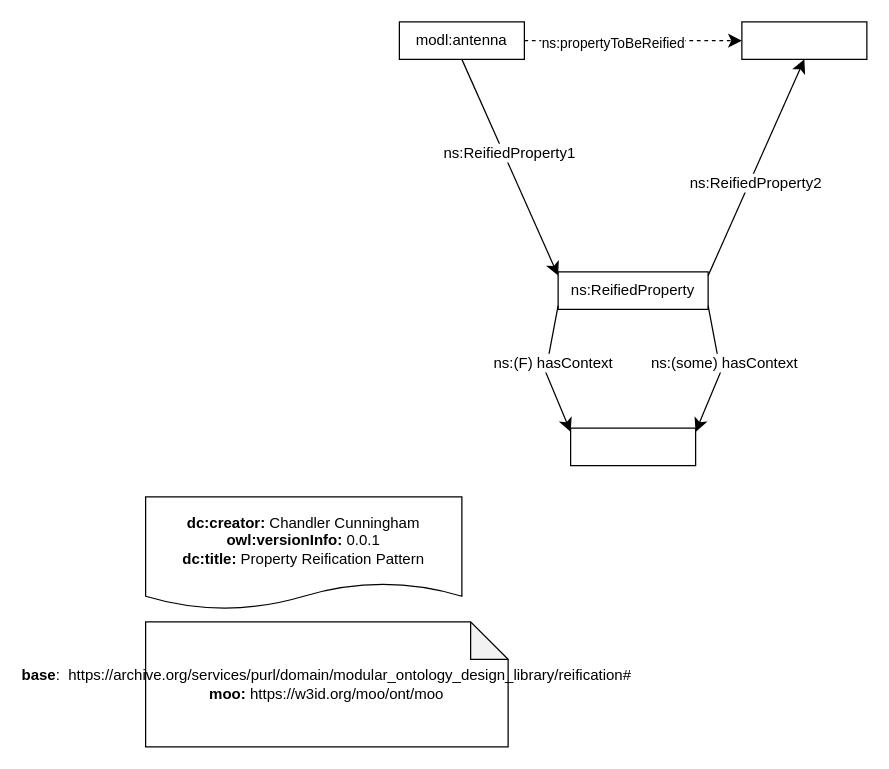
This 889x769 diagram has some shape labels left out. Here are the shapes that lost their labels. From the top down, the centre of each, then its label:
At (804,40): "modl:broke".
At (632,446): "ns:Context".
